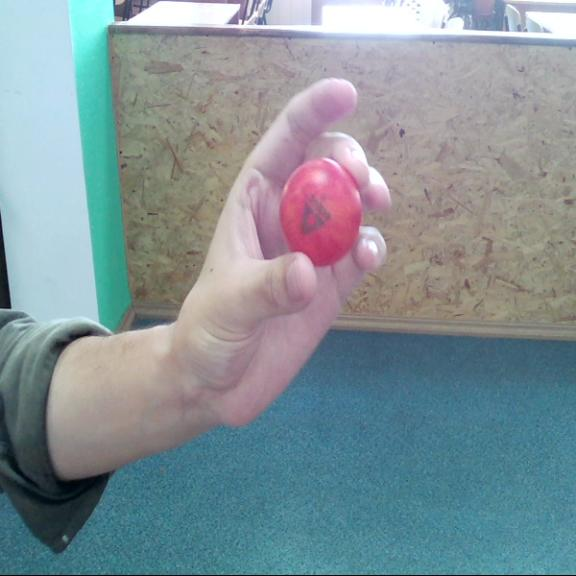ball: (280, 159, 363, 266)
